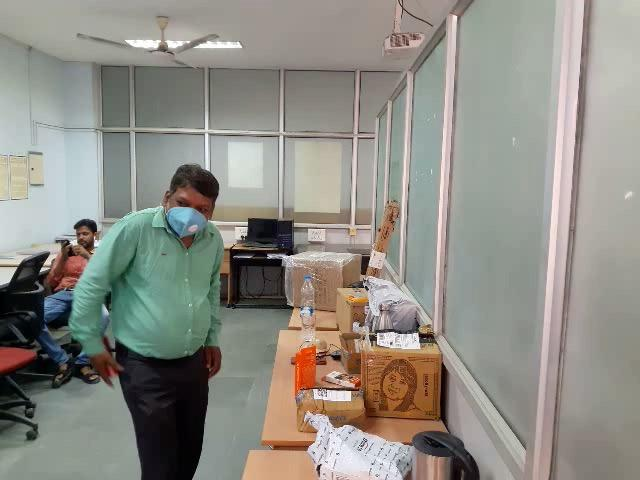shoplifting: (40, 297, 239, 411)
